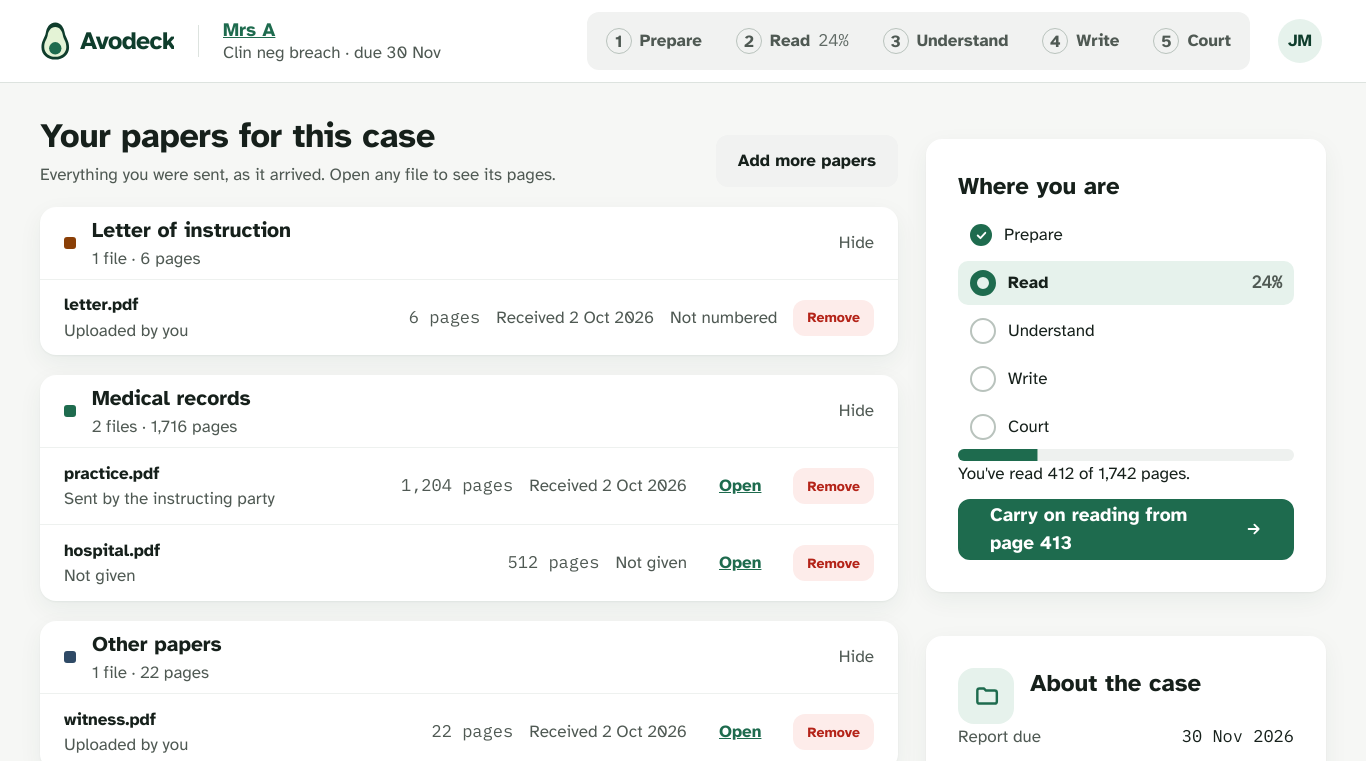
Case home under the launch packs › a group folds shut and open
Click the button "Medical records 2 files · 1,716 pages Hide": (171, 398) [40, 375, 898, 447]
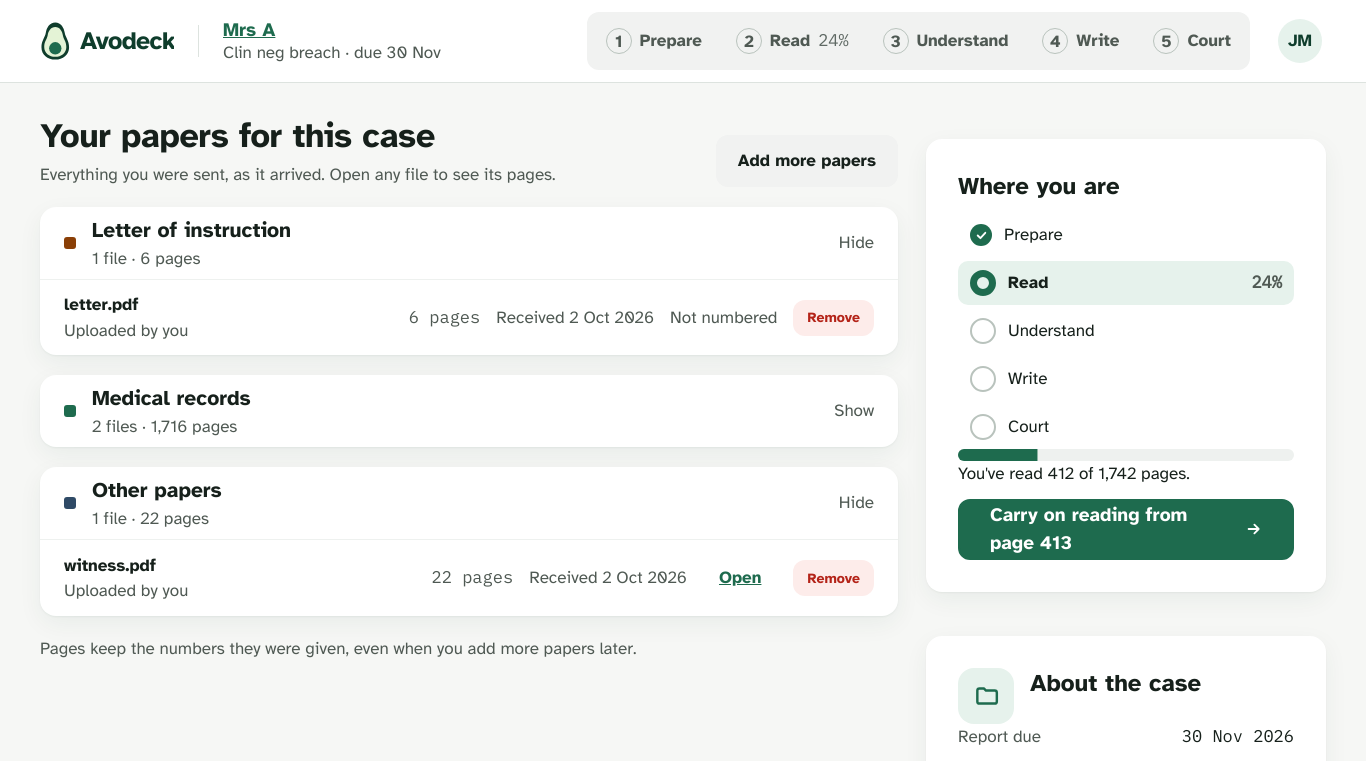
Expected: the text "practice.pdf" is gone
Expected: the button "Medical records 2 files · 1,716 pages Show" is collapsed
Click the button "Medical records 2 files · 1,716 pages Show": (171, 398) [40, 375, 898, 447]
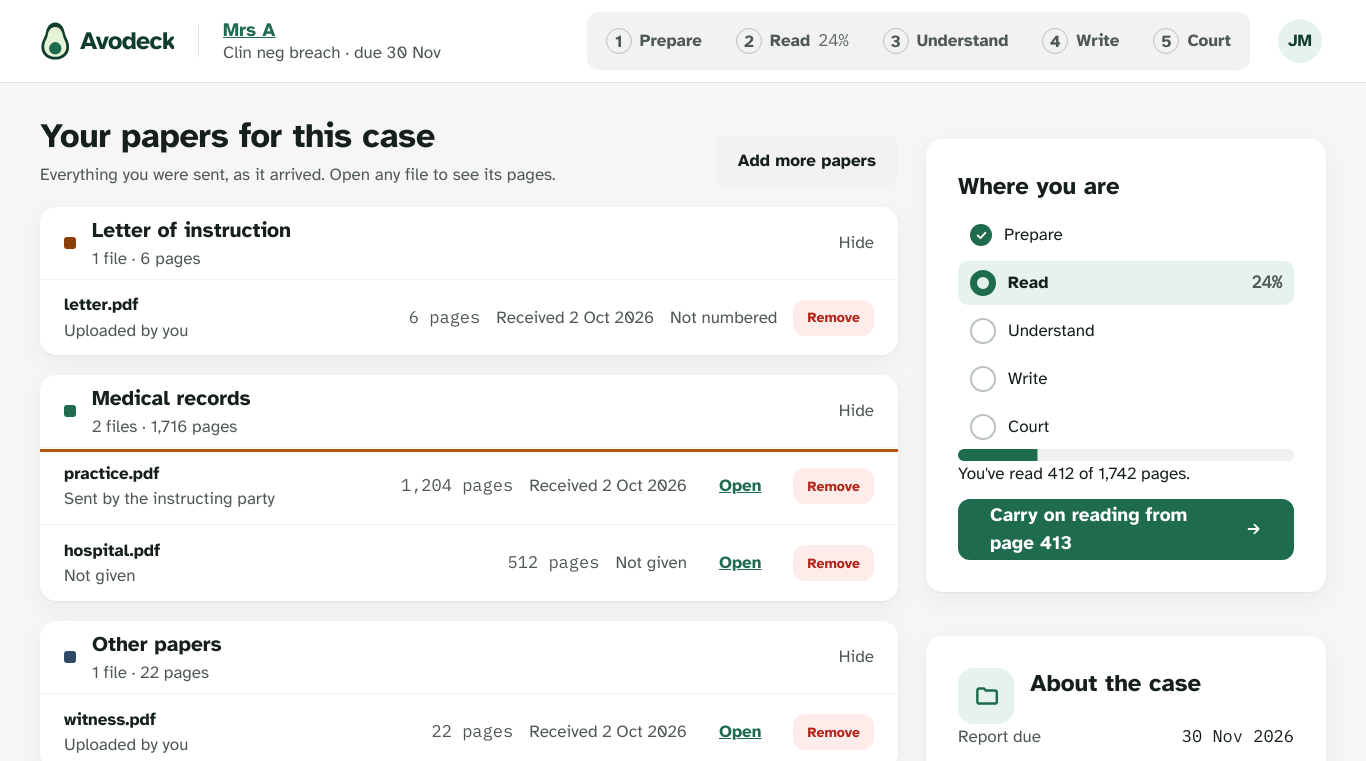
Expected: the text "practice.pdf" is shown, [64, 462, 159, 484]
